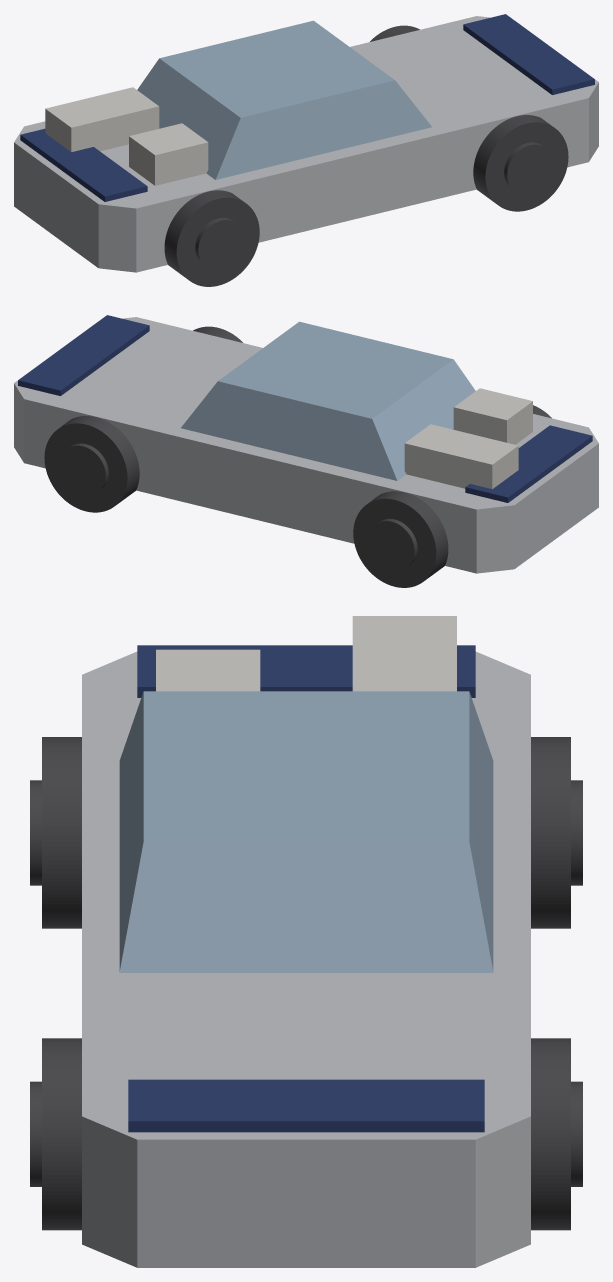
The picture shows the model from 3 angles, top to bottom: view 1: azimuth 30°, elevation 25°; view 2: azimuth 150°, elevation 25°; view 3: azimuth 270°, elevation 25°; orthographic projection. The views are drawn at different scales.
Visible parts, largest first — view 1: chassis, cabin, wheel_rr, wheel_fr, solar_hood, module_02, solar_deck, module_01, module_03; view 2: chassis, cabin, wheel_rl, wheel_fl, solar_hood, solar_deck, module_02, module_01, module_03; view 3: chassis, cabin, solar_hood, wheel_fl, wheel_fr, wheel_rl, wheel_rr, solar_deck, module_02, module_01, module_03.
Part boxes in pixels (x1,y1,x2,y2): chassis: [14, 16, 598, 272]; cabin: [137, 20, 431, 179]; wheel_rr: [164, 190, 259, 286]; wheel_fr: [473, 115, 568, 211]; solar_hood: [463, 14, 594, 94]; module_02: [129, 123, 208, 185]; solar_deck: [20, 128, 147, 201]; module_01: [80, 87, 159, 149]; module_03: [45, 100, 124, 151]; chassis: [14, 317, 598, 573]; cabin: [181, 321, 475, 480]; wheel_rl: [353, 491, 448, 587]; wheel_fl: [44, 416, 139, 512]; solar_hood: [18, 315, 149, 395]; solar_deck: [465, 425, 592, 502]; module_02: [453, 388, 532, 444]; module_01: [404, 424, 483, 486]; module_03: [439, 432, 518, 489]; chassis: [82, 651, 530, 1267]; cabin: [119, 691, 493, 972]; solar_hood: [128, 1079, 484, 1132]; wheel_fl: [531, 1038, 582, 1230]; wheel_fr: [30, 1038, 81, 1230]; wheel_rl: [531, 737, 582, 928]; wheel_rr: [30, 737, 81, 928]; solar_deck: [137, 645, 475, 697]; module_02: [156, 649, 260, 691]; module_01: [352, 649, 456, 691]; module_03: [352, 616, 456, 667].
Bounding box in the file's own units: 9.4 × 2.47 × 4.5.
